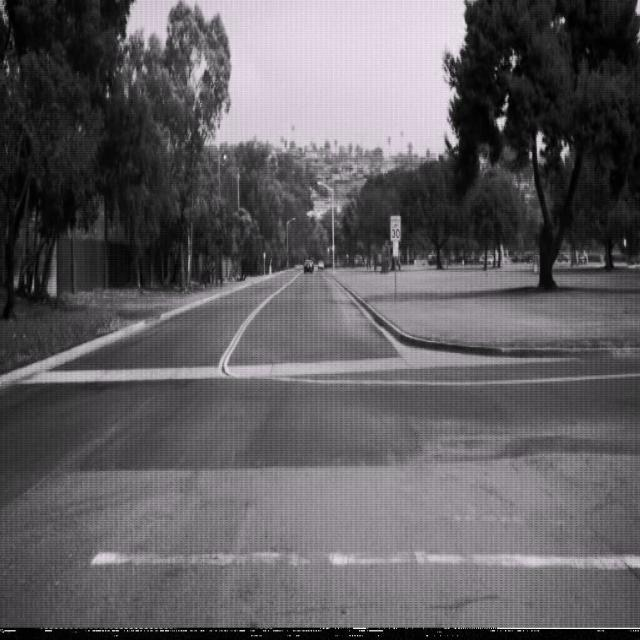speedLimit30: (389, 214, 402, 242)
